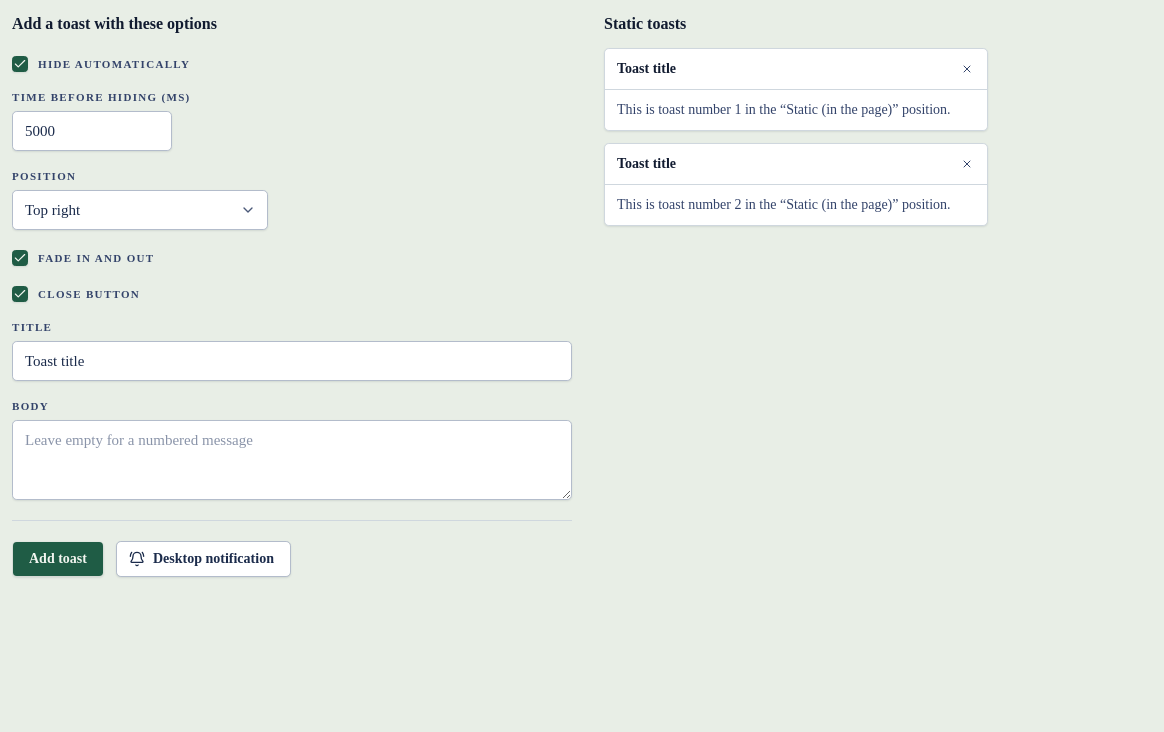
Test: ToasterDemo › floats a toast with the chosen title and body
This screenshot has width=1164, height=732.
Click the checkbox named "Hide automatically" next to "Hide automatically" at (20, 64), box [12, 56, 28, 72]
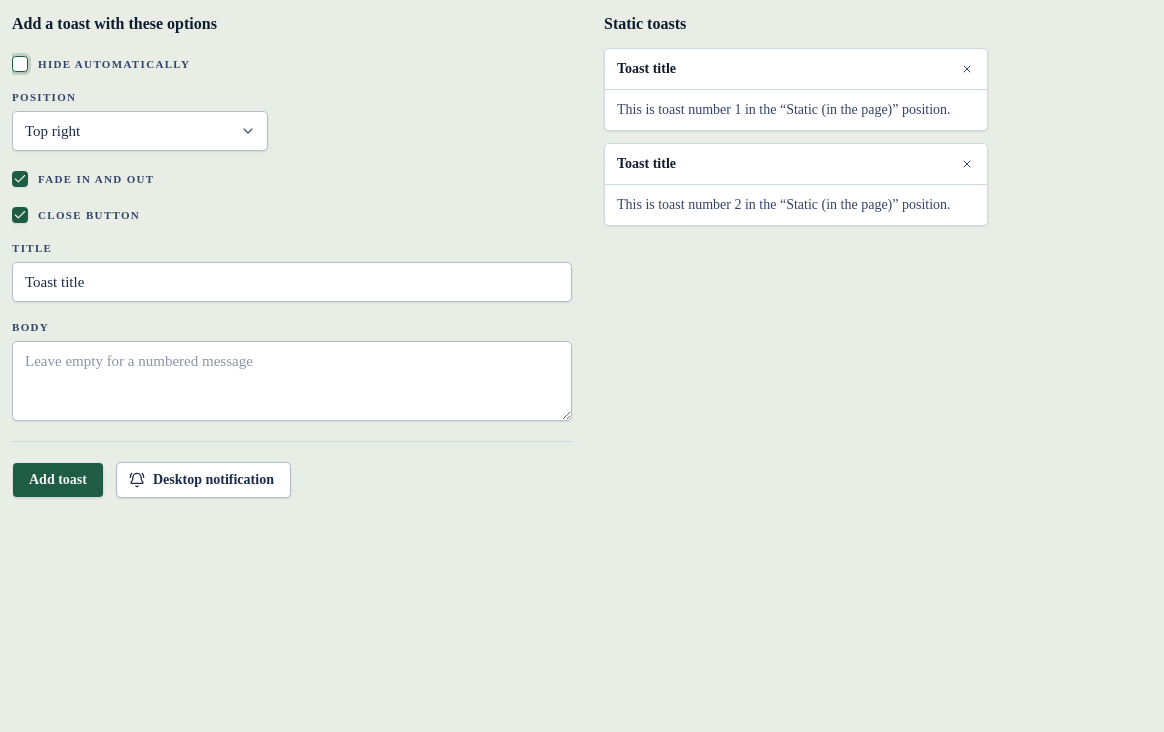
Replace the text in the field labelled "Title" with "Marks saved" at (292, 282), box [12, 262, 572, 302]
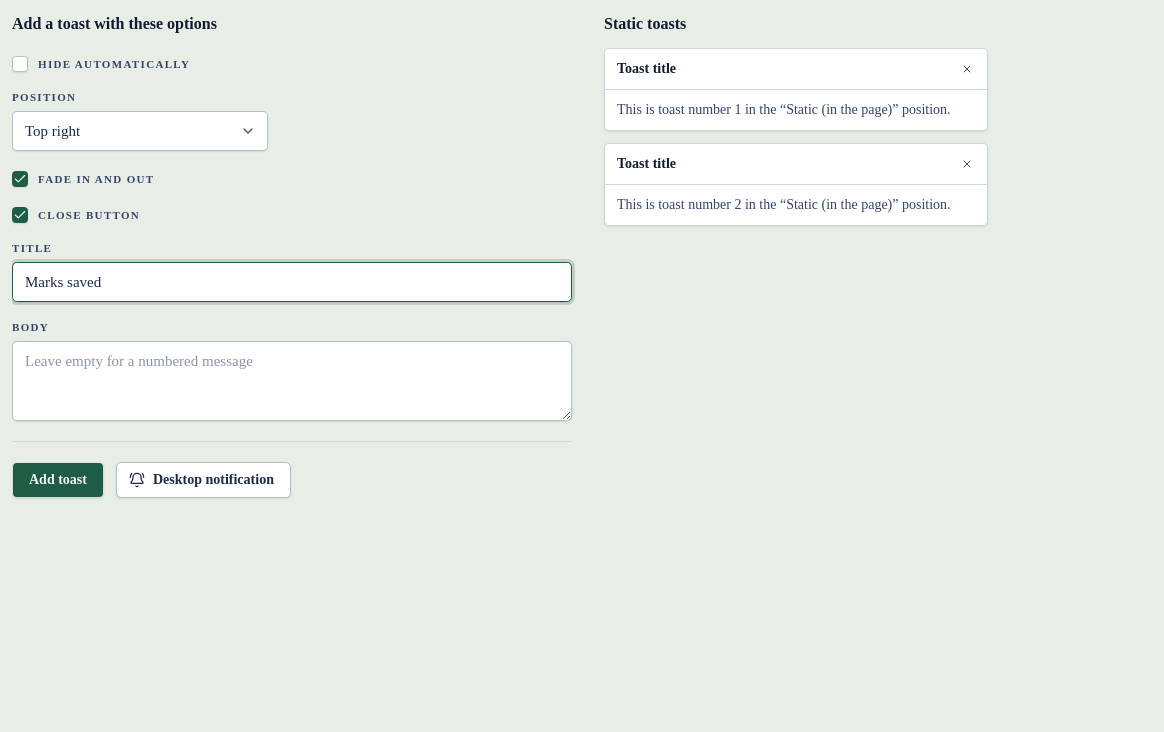
Type "Twelve results were updated." into the text box labelled "Body" at (292, 381), box [12, 341, 572, 421]
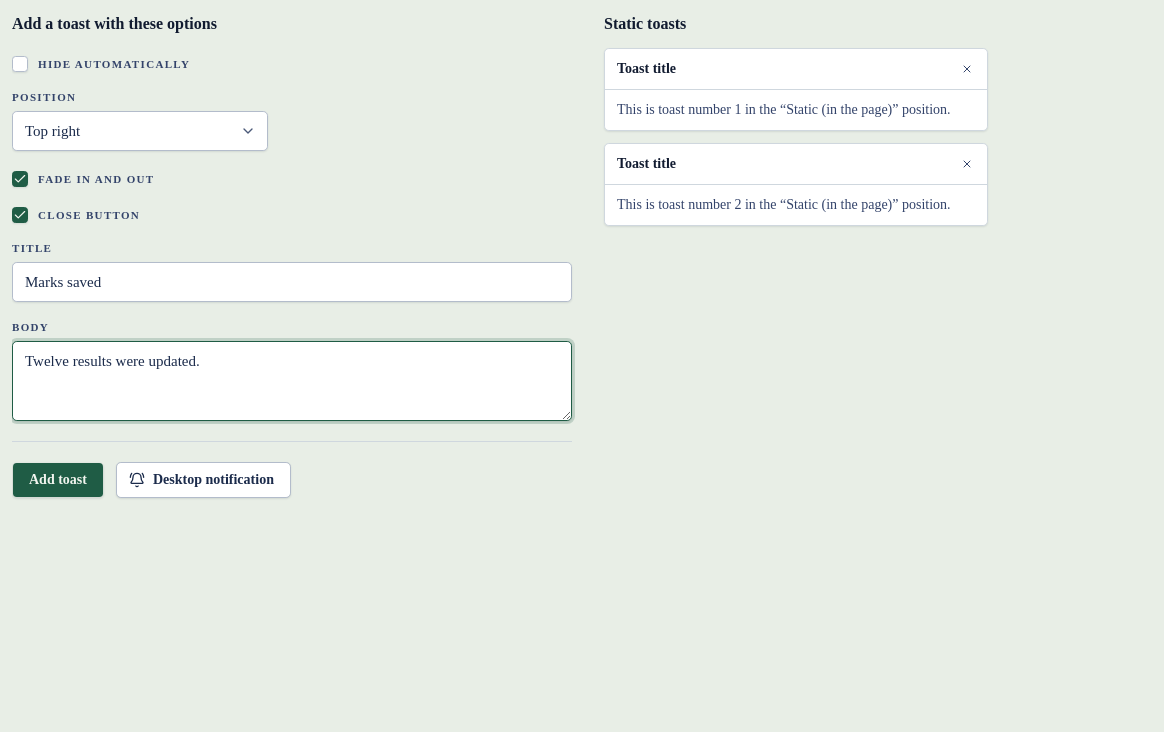
Click the button "Add toast" at (58, 480), box [12, 462, 104, 498]
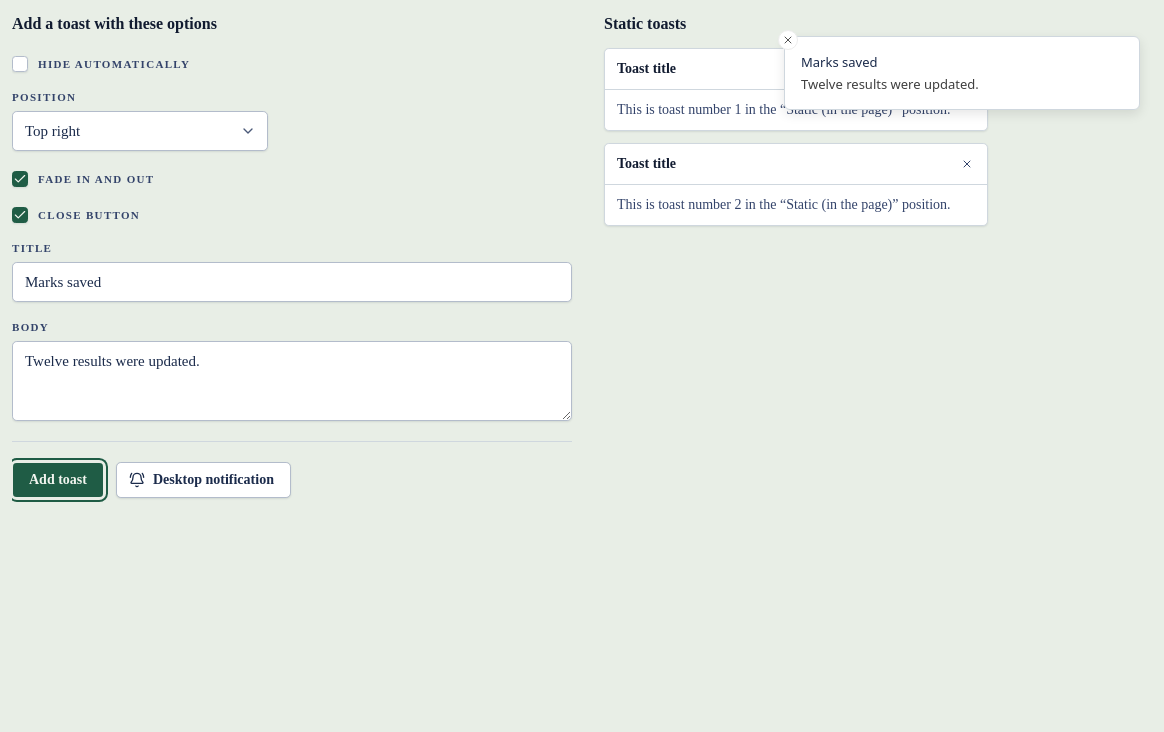
Result: the list item "Marks saved Twelve results were updated." is shown at [784, 36, 1140, 110]
